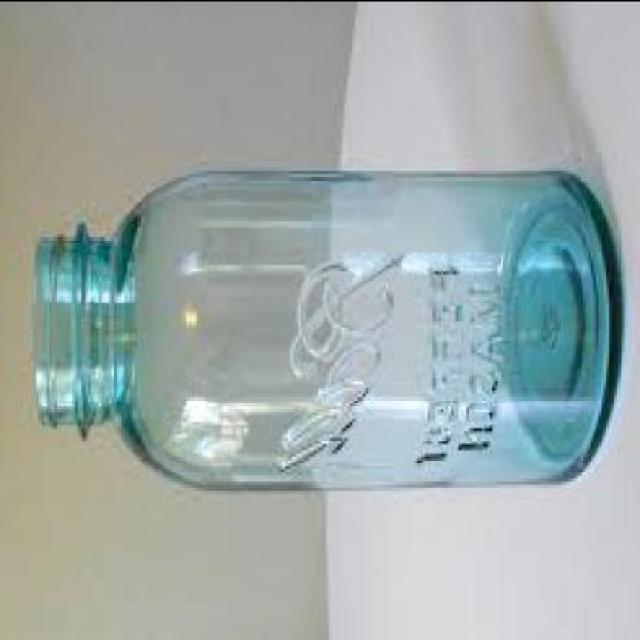GLASS: (32, 169, 616, 483)
